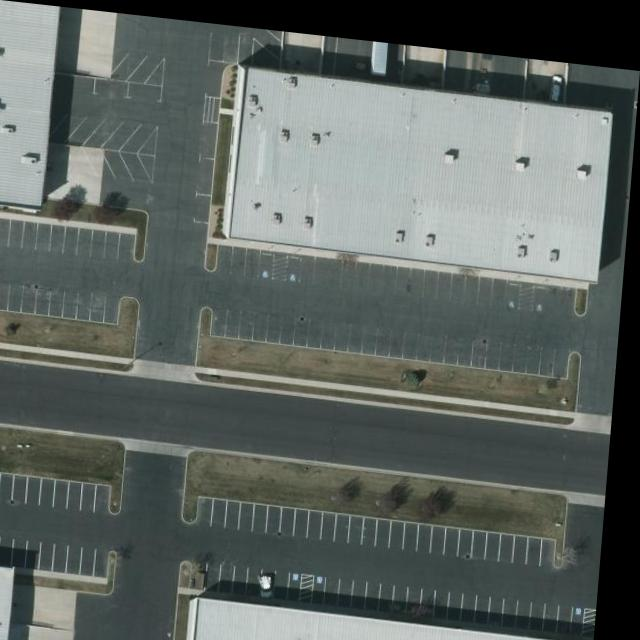vehicle: (267, 565, 284, 593), (549, 63, 564, 91)
